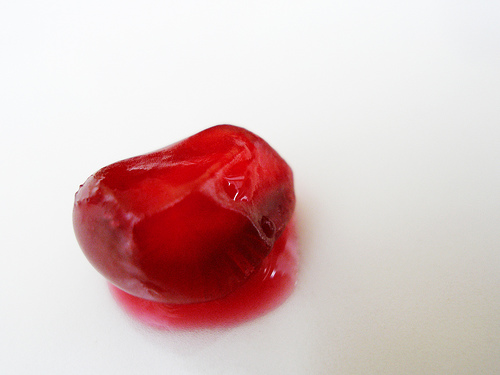pomogranate: (73, 125, 298, 306)
